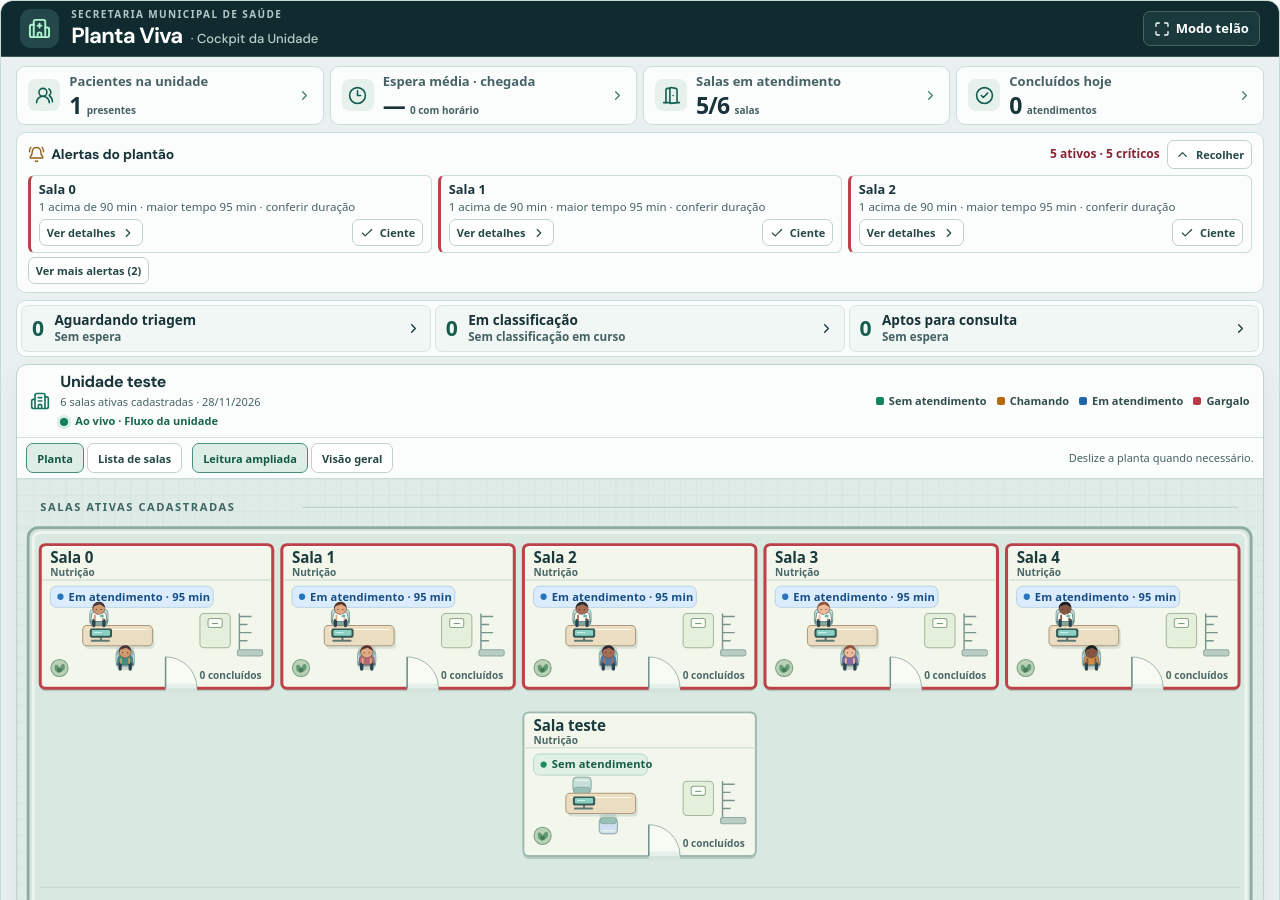
Scenario: limita a exibição inicial de alertas sem esconder seu total
The image size is (1280, 900).
Expected: the text "5 ativos · 5 críticos" is shown, [1050,145,1160,163]
Expected: the number of buttons named "Ver detalhes de Sala" is 3, [39,219,144,246]; [449,219,554,246]; [859,219,964,246]
Click the button "Ver mais alertas (2)" at (88, 271), box [28,257,149,284]
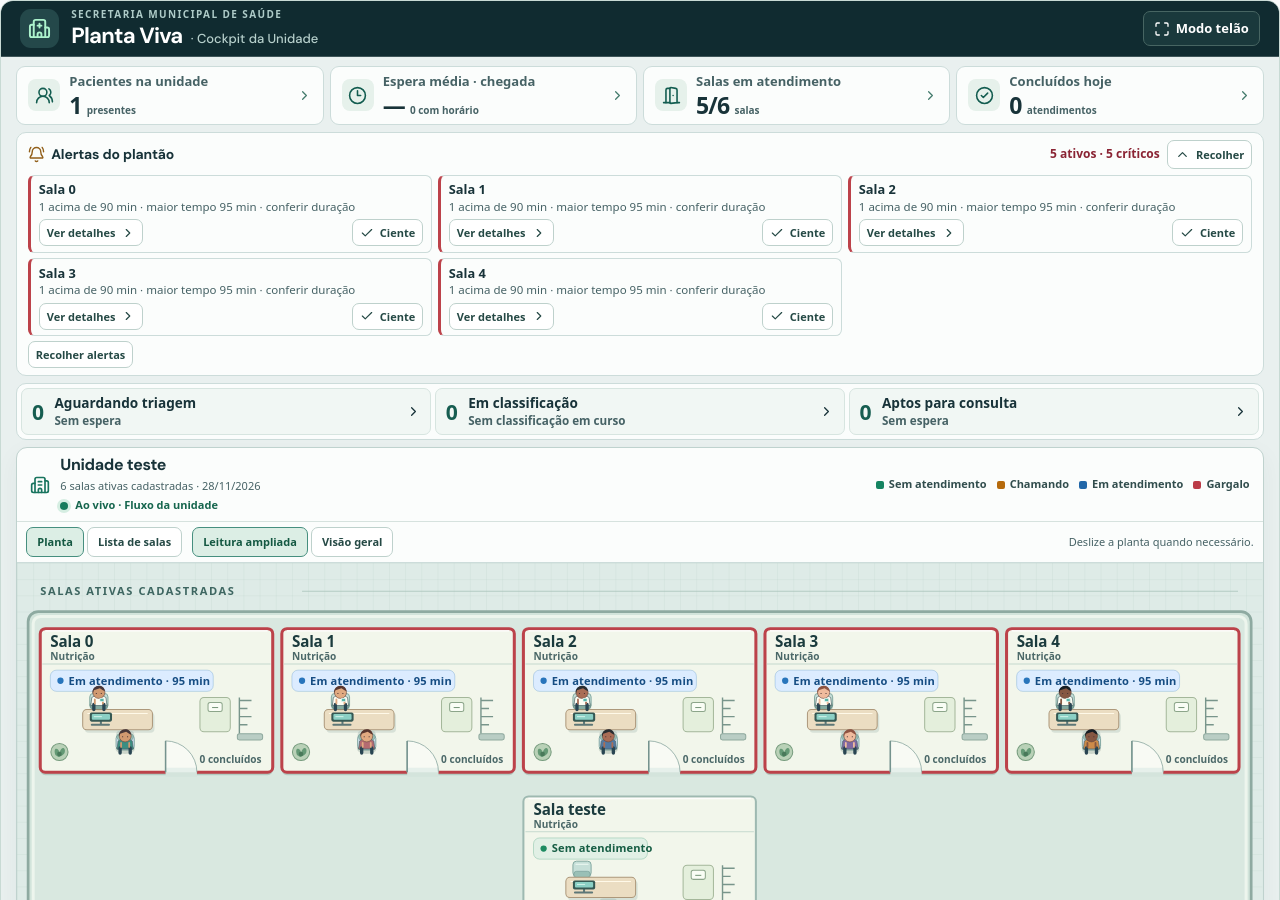
Expected: the number of buttons named "Ver detalhes de Sala" is 5, [39,219,144,246]; [449,219,554,246]; [859,219,964,246]; [39,303,144,330]; [449,303,554,330]
